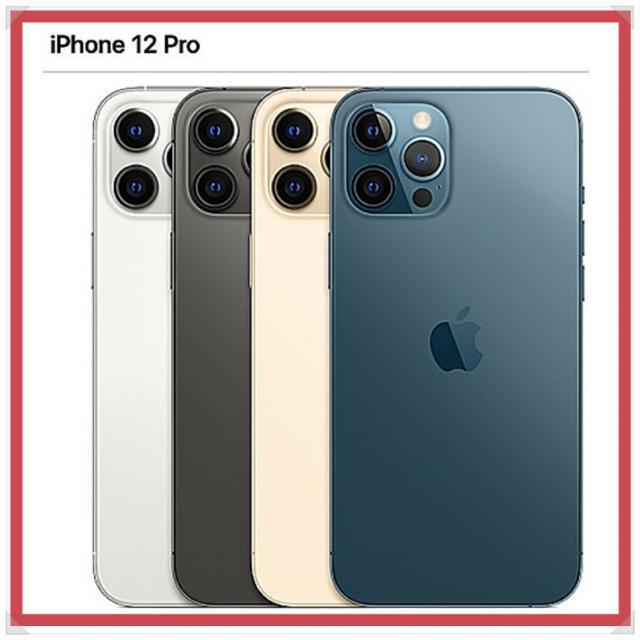phone: (332, 86, 584, 605)
